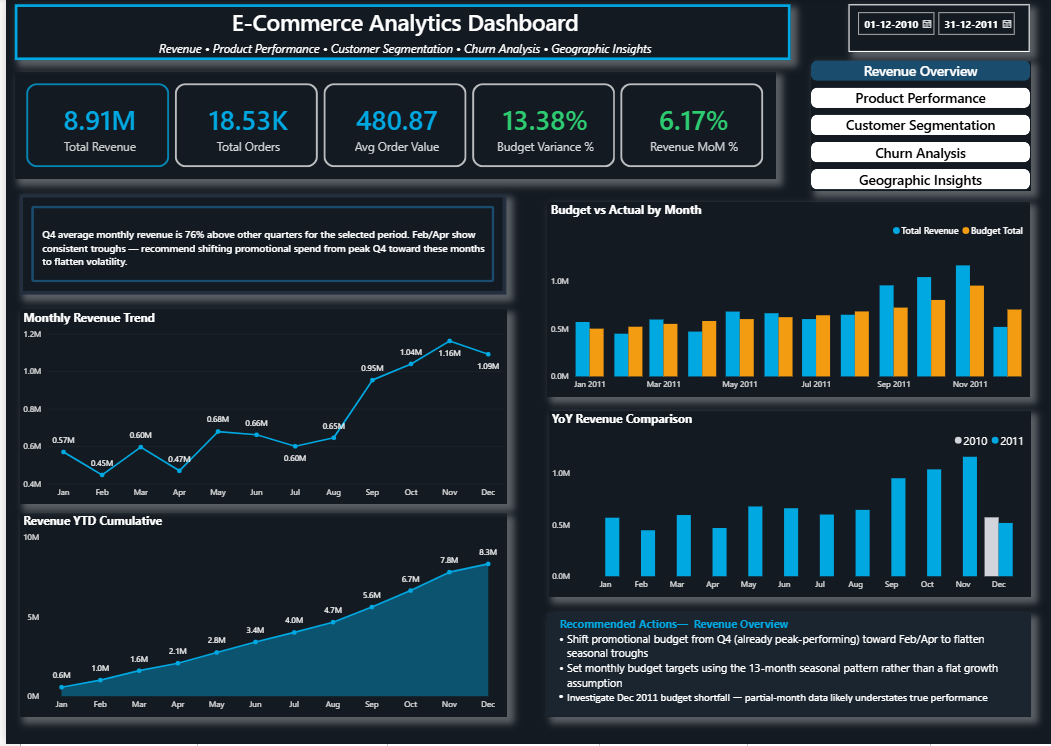

The page's visual inventory and layout, read from the dashboard file:
{"tool":"powerbi","page":{"name":"Revenue Overview","canvas":[1540,1100],"ordinal":0},"visuals":[{"type":"slicer","fields":{"Values":["dim_date.date_id"]},"box":[1242.1,8.8,267.4,70.4],"z":0},{"type":"cardVisual","fields":{"Data":["fact_orders.Total Revenue","fact_orders.Total Orders","fact_orders.Avg Order Value","fact_orders.Budget Variance %","fact_orders.Revenue MoM %"]},"box":[12.3,109.1,1122.5,158.3],"z":1000},{"type":"lineChart","title":"Monthly Revenue Trend","fields":{"Category":["dim_date.Month Short"],"Y":["fact_orders.Total Revenue"]},"box":[20.3,459,718.8,287.5],"z":2000},{"type":"areaChart","title":"Revenue YTD Cumulative","fields":{"Category":["dim_date.Month Short"],"Y":["fact_orders.Revenue YTD"]},"box":[20.3,759.4,718.8,300.4],"z":3000},{"type":"lineClusteredColumnComboChart","title":"Budget vs Actual by Month","fields":{"Category":["dim_budget.month"],"Y":["fact_orders.Total Revenue","fact_orders.Budget Total"]},"box":[798.1,300.4,711.5,287.5],"z":4000},{"type":"clusteredColumnChart","title":"YoY Revenue Comparison","fields":{"Category":["dim_date.Month Short"],"Series":["dim_date.year"],"Y":["fact_orders.Total Revenue"]},"box":[799.9,608.2,711.5,274.6],"z":5000},{"type":"pageNavigator","box":[1187.6,91.5,323.7,191.8],"z":6000},{"type":"textbox","title":"E-Commerce Analytics Dashboard","box":[12.3,8.8,1143.6,82.7],"z":7000},{"type":"textbox","box":[798.1,906.8,713.3,153],"z":8000},{"type":"cardVisual","fields":{"Data":["fact_orders.Seasonality Insight Text"]},"box":[21.1,288.5,717.8,147.8],"z":9000}]}

Visuals, with their boxes in screenshot pixels (x1, y1, x2, y2), scaled from the page's 1540x1100 canvas onto the 1051x746 screenshot:
slicer - dim_date.date_id: 848,6,1030,54
cardVisual - fact_orders.Total Revenue x fact_orders.Total Orders: 8,74,774,181
"Monthly Revenue Trend" lineChart: 14,311,504,506
"Revenue YTD Cumulative" areaChart: 14,515,504,719
"Budget vs Actual by Month" lineClusteredColumnComboChart: 545,204,1030,399
"YoY Revenue Comparison" clusteredColumnChart: 546,412,1031,599
pageNavigator: 810,62,1031,192
"E-Commerce Analytics Dashboard" textbox: 8,6,789,62
textbox: 545,615,1031,719
cardVisual - fact_orders.Seasonality Insight Text: 14,196,504,296
